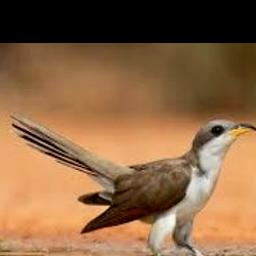Cuckoo: (10, 111, 256, 256)
